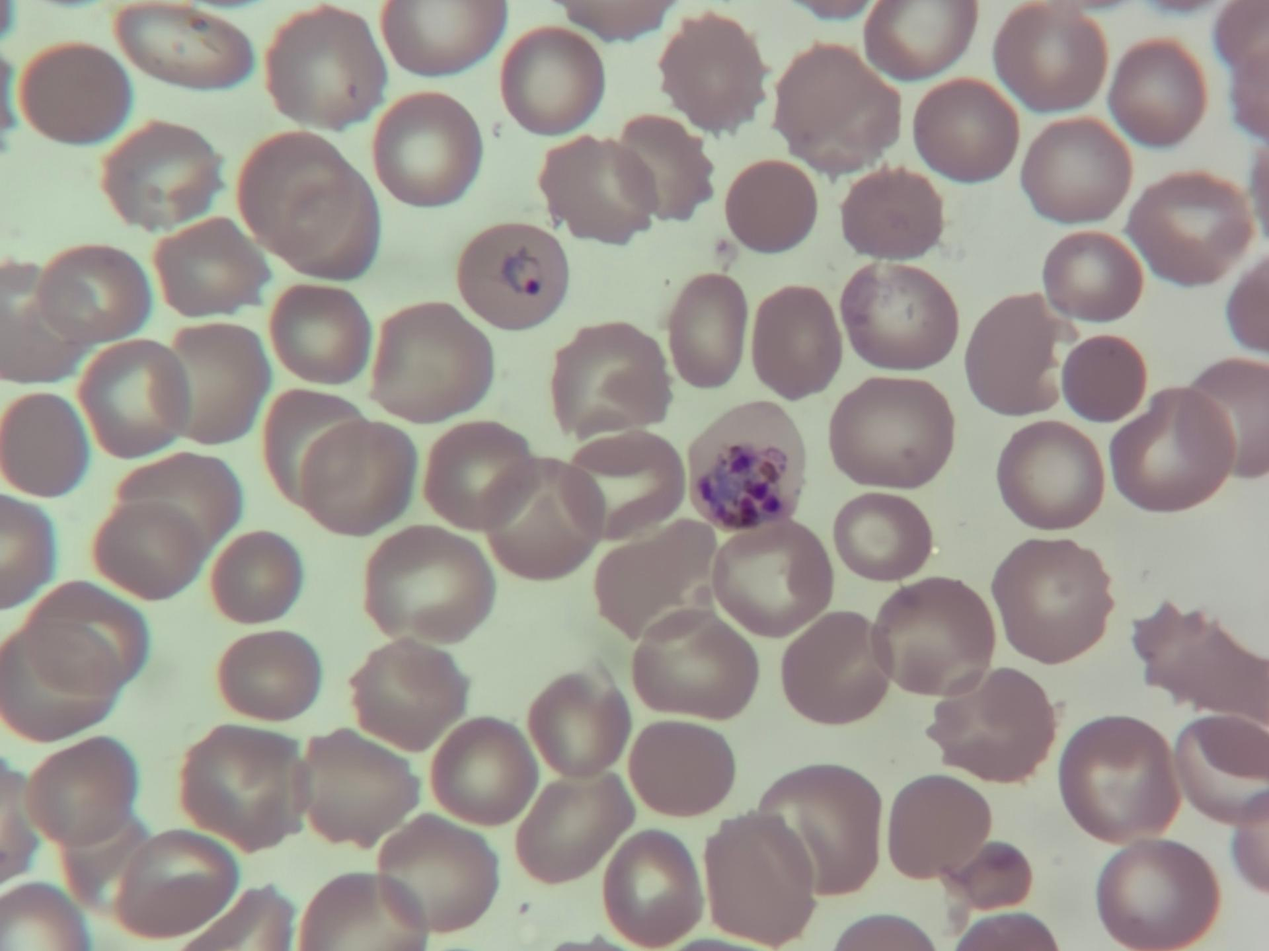Infected: (684, 399, 808, 531), (455, 220, 567, 329)
Uninfected: (235, 131, 380, 276), (1133, 599, 1268, 730), (756, 764, 880, 894), (180, 726, 306, 852), (771, 44, 896, 171), (592, 517, 717, 641), (1108, 389, 1234, 512), (1058, 718, 1178, 844), (364, 528, 492, 646), (0, 615, 118, 743), (701, 816, 817, 946), (869, 578, 994, 697), (295, 416, 418, 534), (268, 4, 385, 128), (483, 459, 604, 578), (991, 539, 1108, 662), (369, 305, 492, 422), (377, 814, 497, 933), (1125, 172, 1250, 285), (931, 669, 1054, 783), (22, 738, 141, 855), (711, 519, 831, 635), (829, 377, 952, 489), (298, 728, 414, 846), (116, 829, 239, 938), (550, 323, 668, 436), (630, 611, 753, 719), (30, 579, 145, 694), (102, 120, 222, 229), (350, 638, 470, 747), (567, 430, 684, 541), (965, 293, 1073, 413), (93, 498, 214, 605), (76, 338, 188, 453), (423, 420, 538, 532), (1095, 840, 1215, 947), (116, 0, 254, 91), (371, 91, 482, 204), (515, 772, 630, 881), (839, 260, 955, 368), (540, 134, 656, 241), (165, 321, 270, 439), (658, 14, 763, 130), (35, 243, 151, 348), (886, 775, 996, 883), (152, 217, 270, 317), (117, 456, 241, 551), (782, 611, 887, 722), (18, 43, 131, 146), (600, 830, 701, 945), (525, 669, 631, 777), (993, 3, 1102, 108), (1, 265, 94, 387), (1021, 117, 1130, 221), (996, 421, 1102, 526), (430, 717, 537, 821), (267, 393, 364, 506), (498, 27, 601, 133), (911, 79, 1017, 181), (268, 282, 372, 384), (750, 284, 842, 399), (1173, 716, 1269, 826), (627, 721, 734, 817), (839, 164, 944, 260), (1108, 39, 1205, 141), (619, 114, 710, 221), (297, 872, 422, 949), (2, 391, 91, 496), (666, 274, 748, 387), (218, 630, 318, 722), (1043, 230, 1141, 323), (381, 1, 499, 76), (52, 816, 147, 909), (864, 1, 974, 81), (723, 160, 816, 254), (833, 492, 930, 581), (210, 531, 301, 622), (176, 882, 293, 950), (1060, 334, 1149, 422), (944, 840, 1035, 913)
